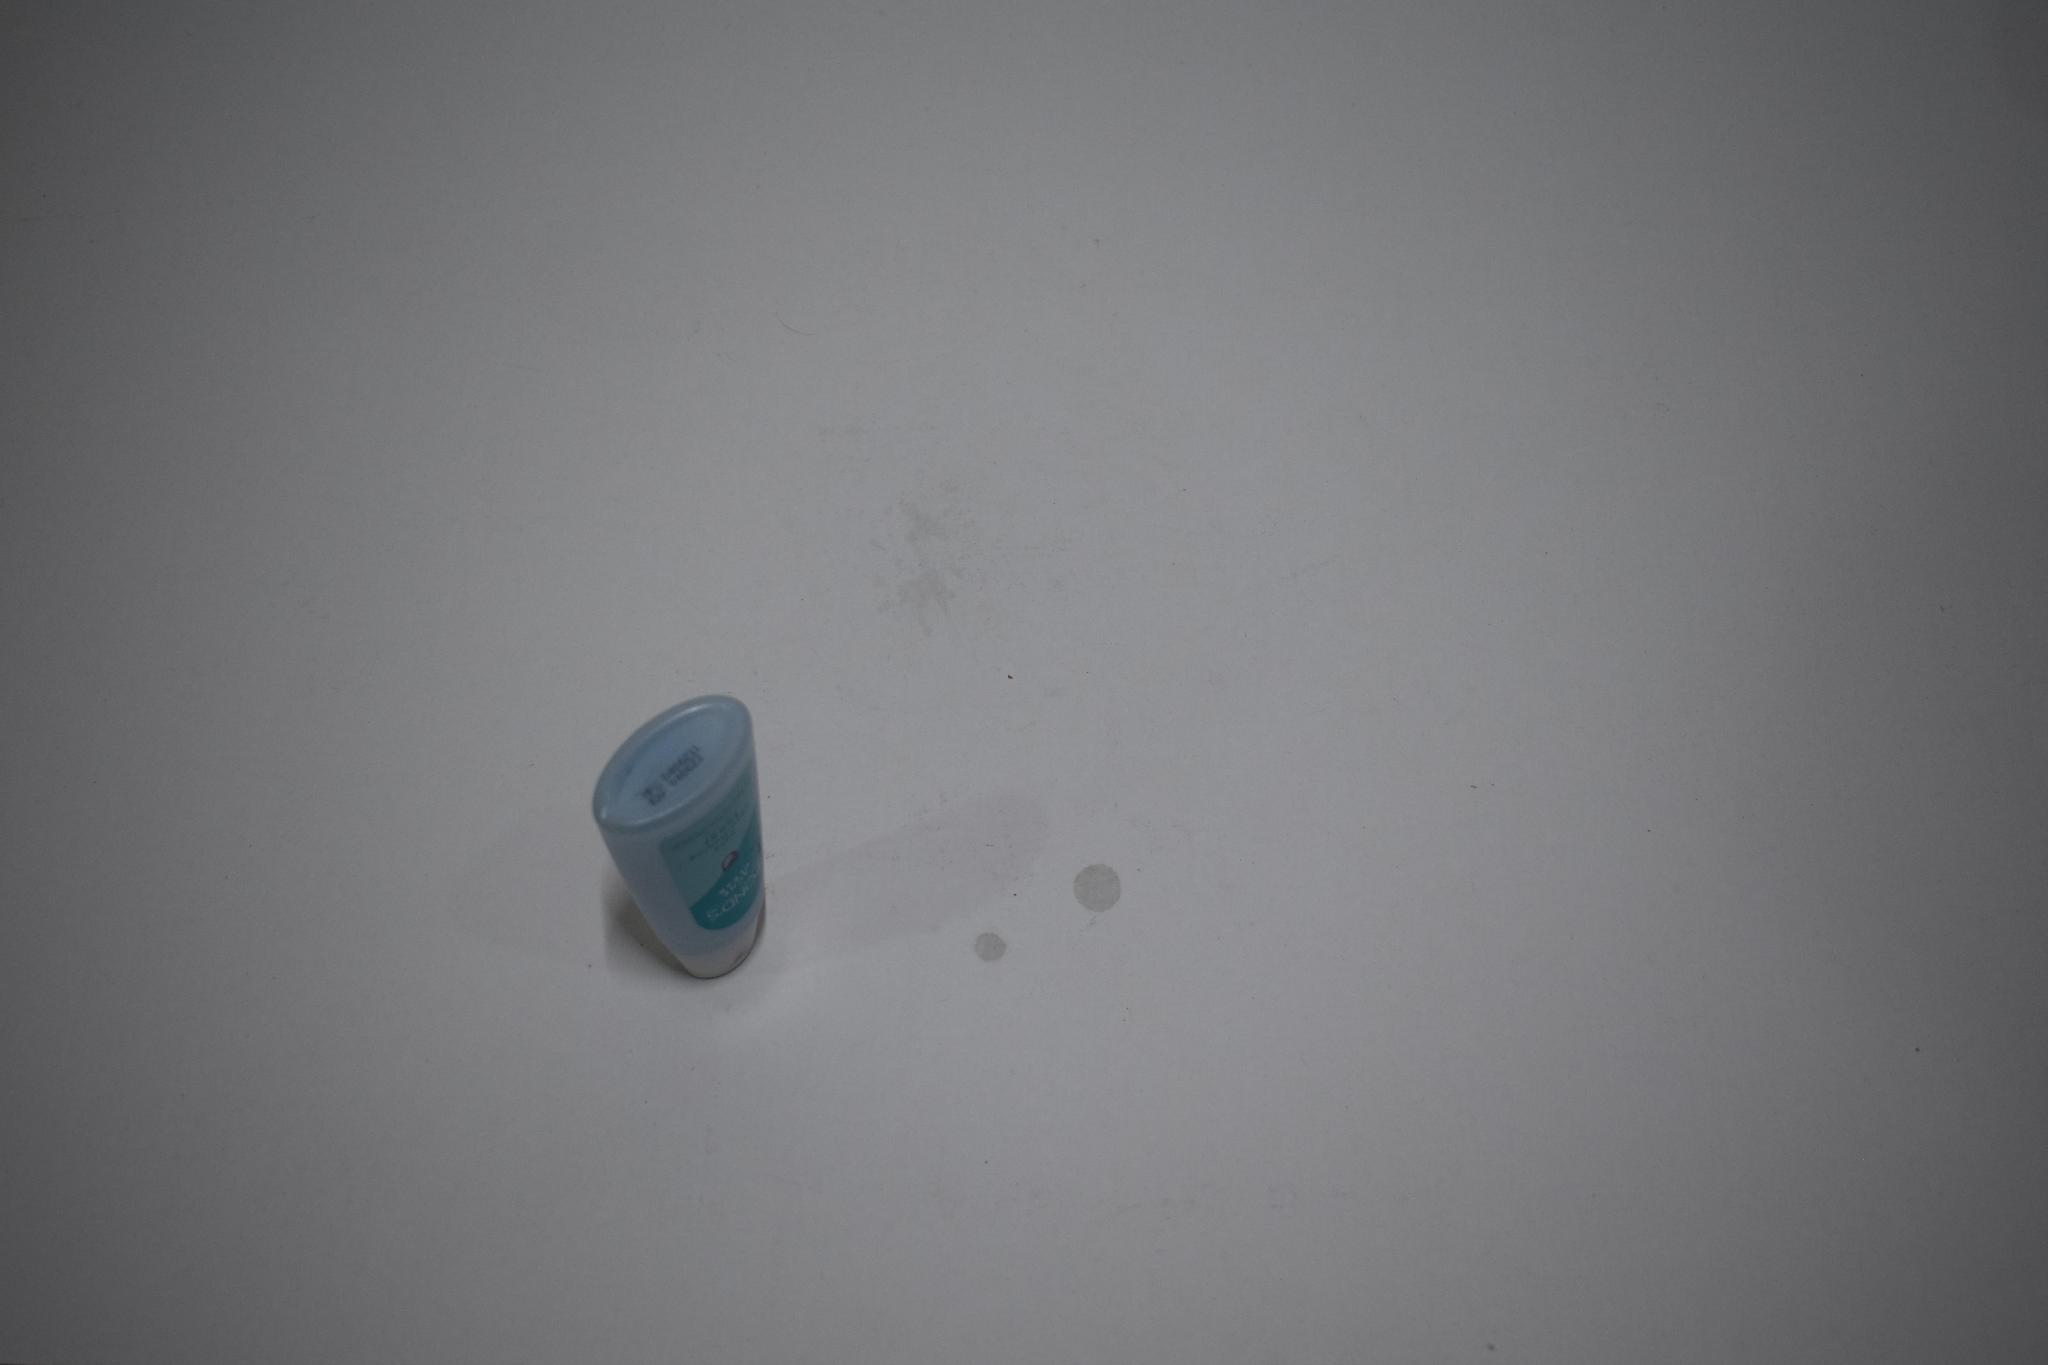bottle: (580, 686, 772, 986)
